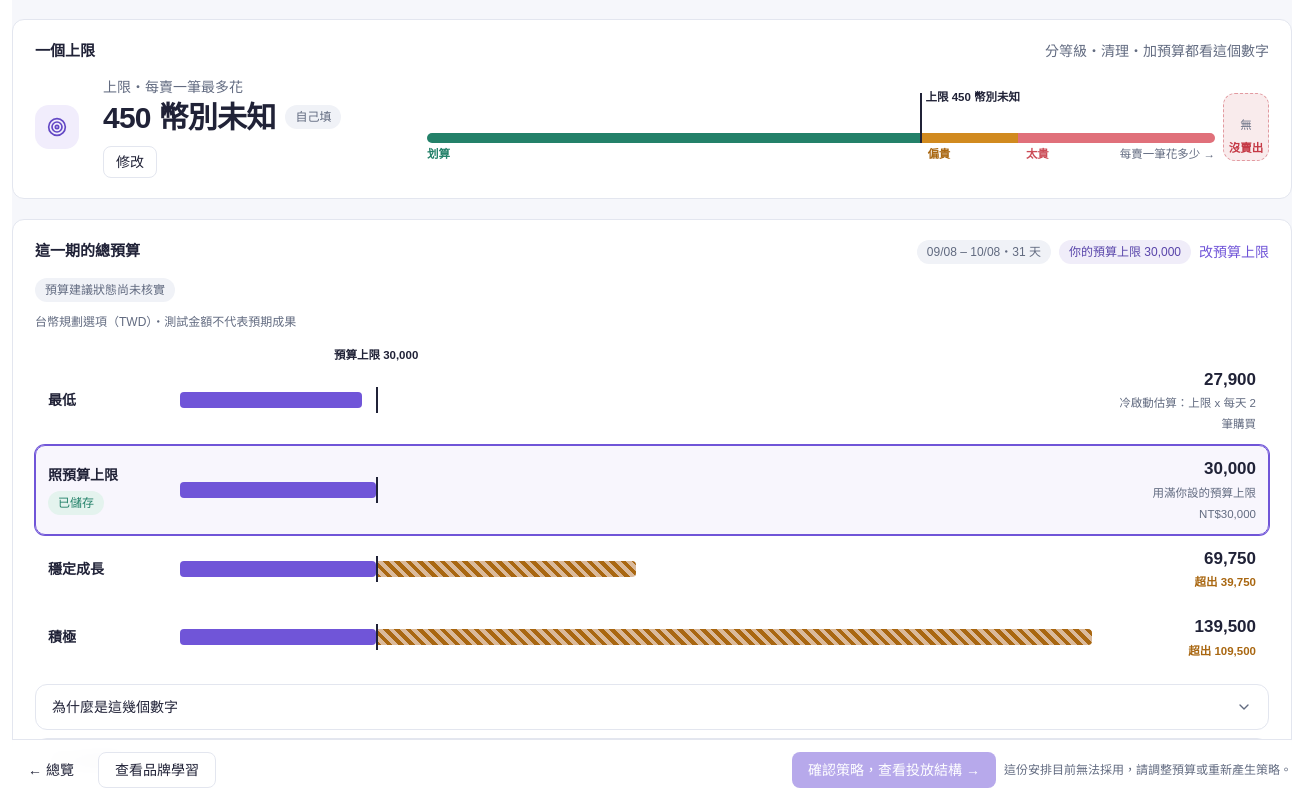
Test: StrategyTab (F28-I09) › a blocked served decision keeps budget revision usable and cannot be adopted
(page scrolled)
Expected: the button "確認策略，查看投放結構 →" is disabled, [792,752,996,788]
Click the radio button labelled "最低 27,900 冷啟動估算：上限 x 每天 2 筆購買" at (271, 400), box [35,356,1269,445]
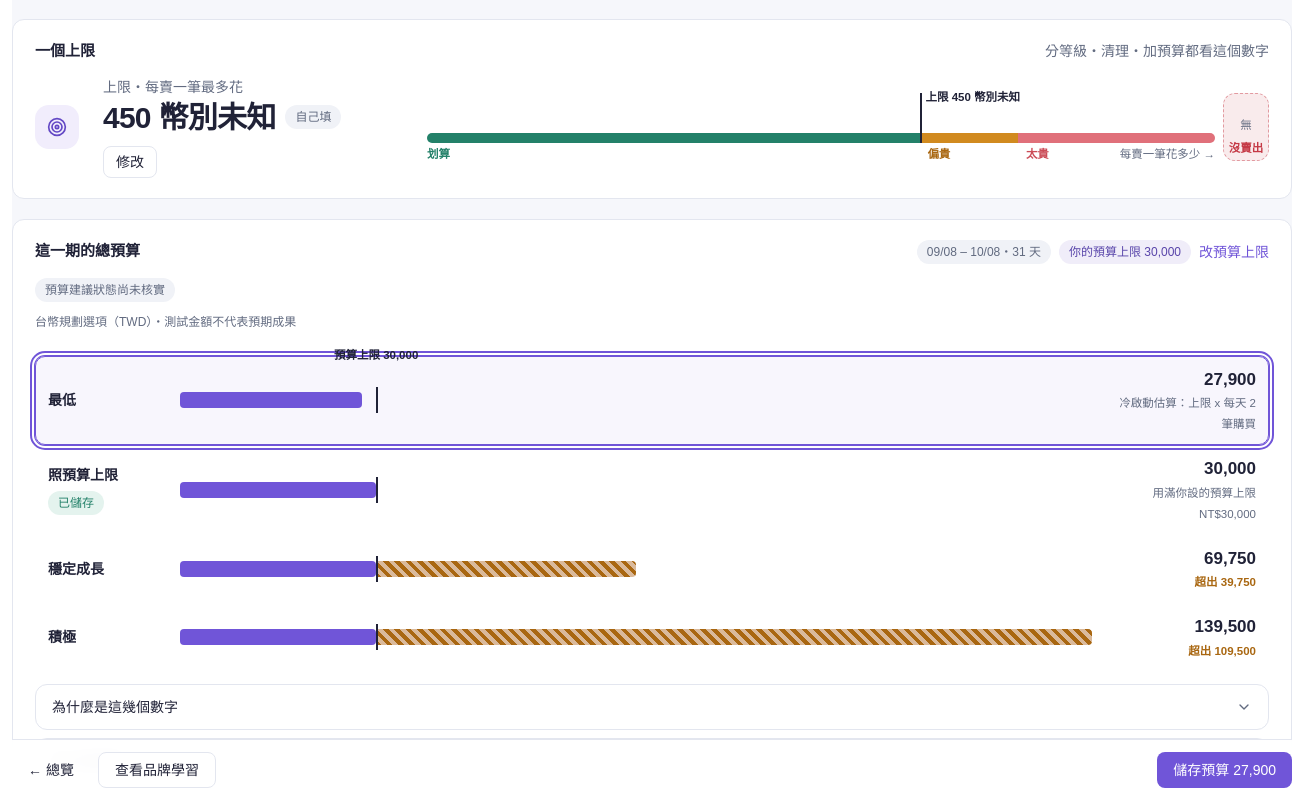
Now the button "儲存預算 27,900" is enabled, box [1157,752,1292,788]
